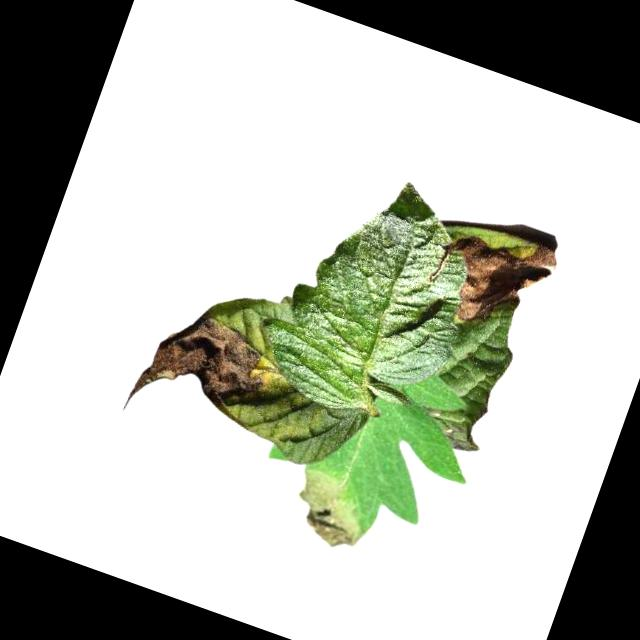Late_blight: (120, 289, 282, 453), (427, 213, 565, 345), (284, 464, 380, 557)
healthy: (243, 150, 502, 441)
